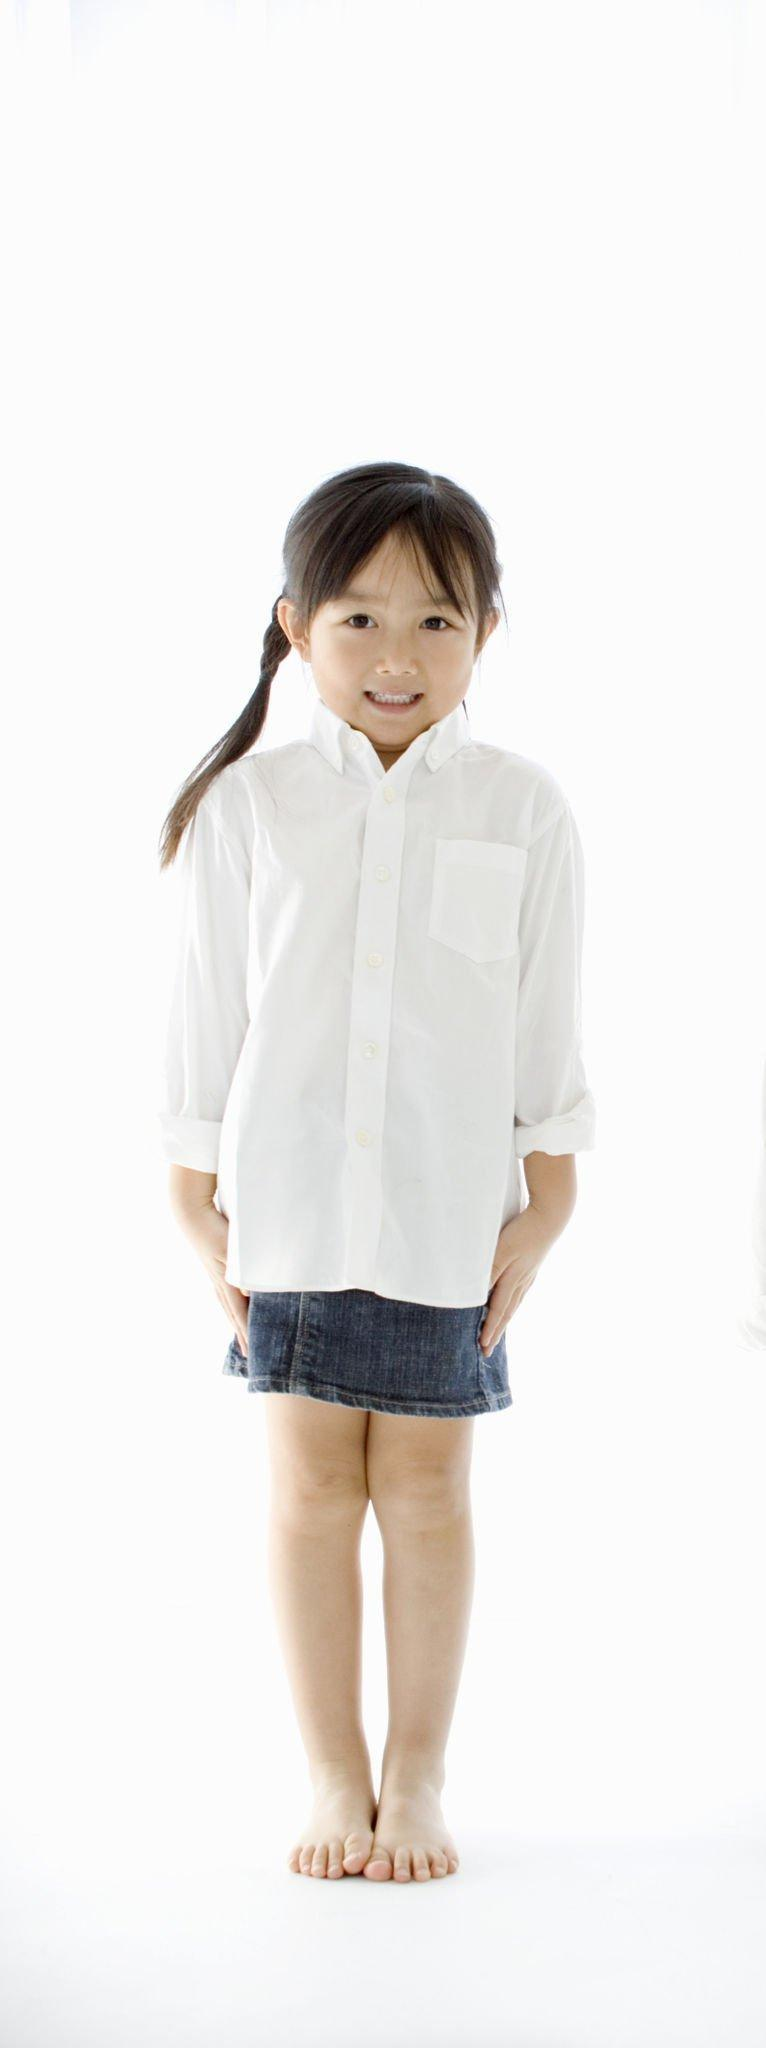Healthy: (297, 502, 499, 772)
